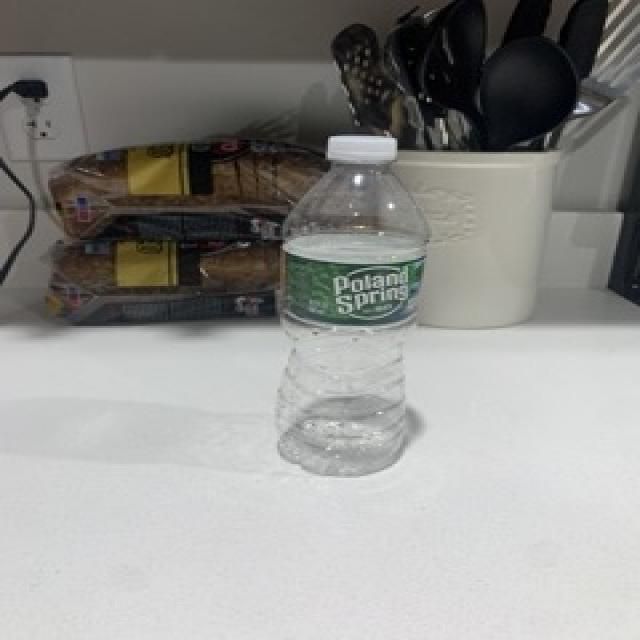water_bottle: (271, 134, 430, 484)
